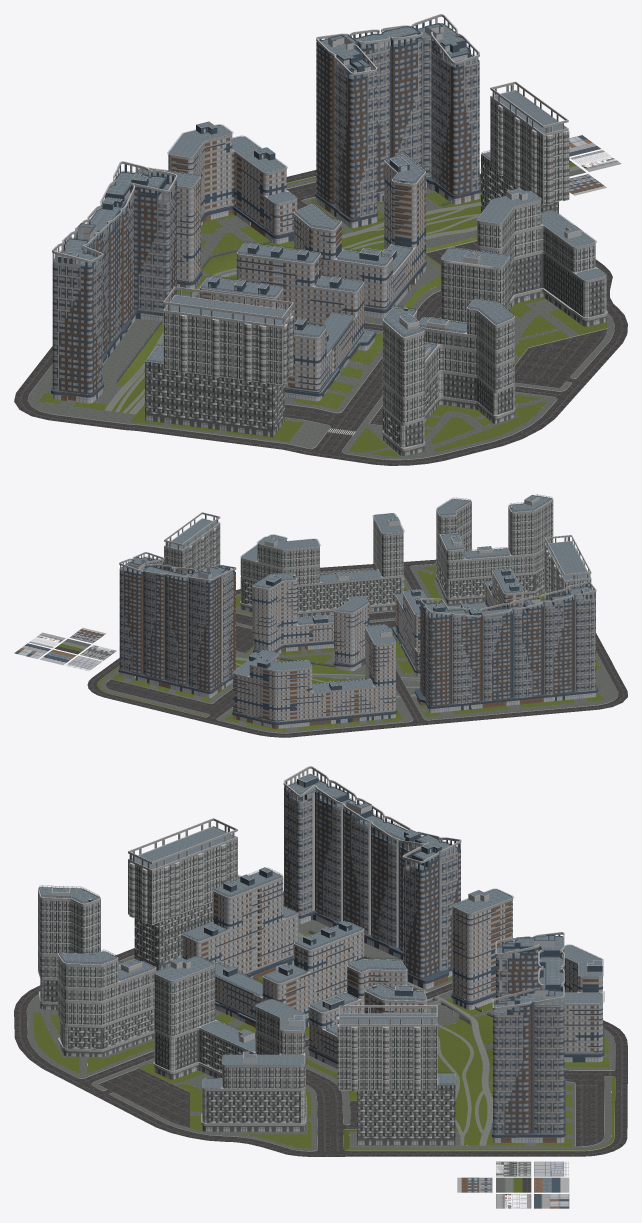
File: centro_bloco.glb
The picture shows the model from 3 angles, top to bottom: view 1: azimuth 30°, elevation 25°; view 2: azimuth 150°, elevation 25°; view 3: azimuth 270°, elevation 25°; orthographic projection. The views are drawn at different scales.
Visible parts, largest first — view 1: Plane.057_4_0, bridge_5_0, Cube.192_7_0, Plane.057_3_0, Plane.057_2_0, Plane.057_1_0, dec.001_6_0; view 2: Cube.192_7_0, Plane.057_3_0, Plane.057_2_0, bridge_5_0, Plane.057_4_0, Plane.057_1_0, dec.001_6_0; view 3: Plane.057_4_0, bridge_5_0, Plane.057_3_0, Cube.192_7_0, Plane.057_2_0, Plane.057_1_0, dec.001_6_0.
Boxes of the visible parts, x1,y1,x2,y2 form: Plane.057_4_0: (144,84,606,455); bridge_5_0: (14,160,627,465); Cube.192_7_0: (52,39,606,394); Plane.057_3_0: (51,14,607,451); Plane.057_2_0: (51,14,607,448); Plane.057_1_0: (52,33,607,403); dec.001_6_0: (22,150,621,460); Cube.192_7_0: (69,564,595,706); Plane.057_3_0: (14,499,598,725); Plane.057_2_0: (40,494,598,728); bridge_5_0: (54,559,627,737); Plane.057_4_0: (80,501,591,681); Plane.057_1_0: (66,494,595,728); dec.001_6_0: (29,563,618,733); Plane.057_4_0: (38,821,531,1176); bridge_5_0: (14,891,627,1192); Plane.057_3_0: (38,766,604,1208); Cube.192_7_0: (284,790,564,1192); Plane.057_2_0: (38,766,604,1192); Plane.057_1_0: (39,779,604,1176); dec.001_6_0: (20,897,624,1208).
Bounding box in the file's own units: 49370 × 11750 × 40059.
Materials: 7 (7 with a texture image).
